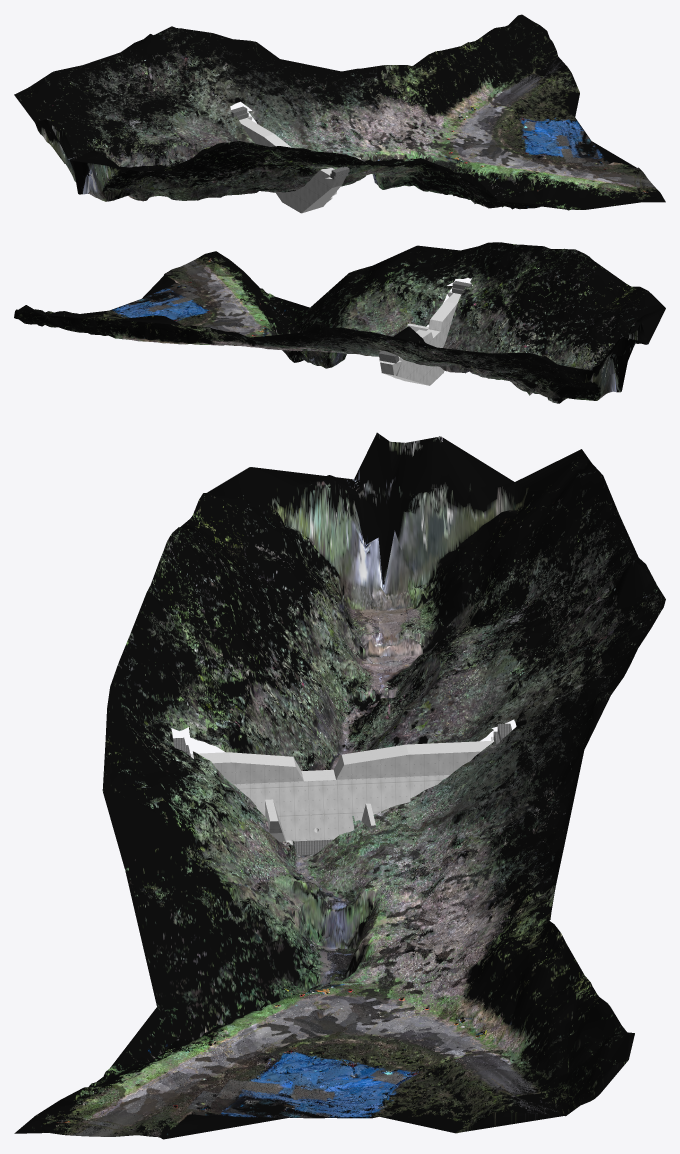
The picture shows the model from 3 angles, top to bottom: view 1: azimuth 30°, elevation 25°; view 2: azimuth 150°, elevation 25°; view 3: azimuth 270°, elevation 25°; orthographic projection. The views are drawn at different scales.
Parts seen in each view (by area): view 1: オブジェクト, 構造物モデル, かご; view 2: オブジェクト, 構造物モデル, かご; view 3: オブジェクト, 構造物モデル.
Part boxes in pixels (x1=…): オブジェクト: x1=14, y1=14, x2=665, y2=210; 構造物モデル: x1=239, y1=118, x2=346, y2=213; かご: x1=231, y1=106, x2=349, y2=195; オブジェクト: x1=14, y1=242, x2=665, y2=403; 構造物モデル: x1=380, y1=293, x2=461, y2=385; かご: x1=379, y1=281, x2=471, y2=363; オブジェクト: x1=14, y1=432, x2=665, y2=1139; 構造物モデル: x1=190, y1=740, x2=493, y2=845.
Bounding box in the file's own units: 73.53 × 18.58 × 40.26.
Materials: 35 (34 with a texture image).
